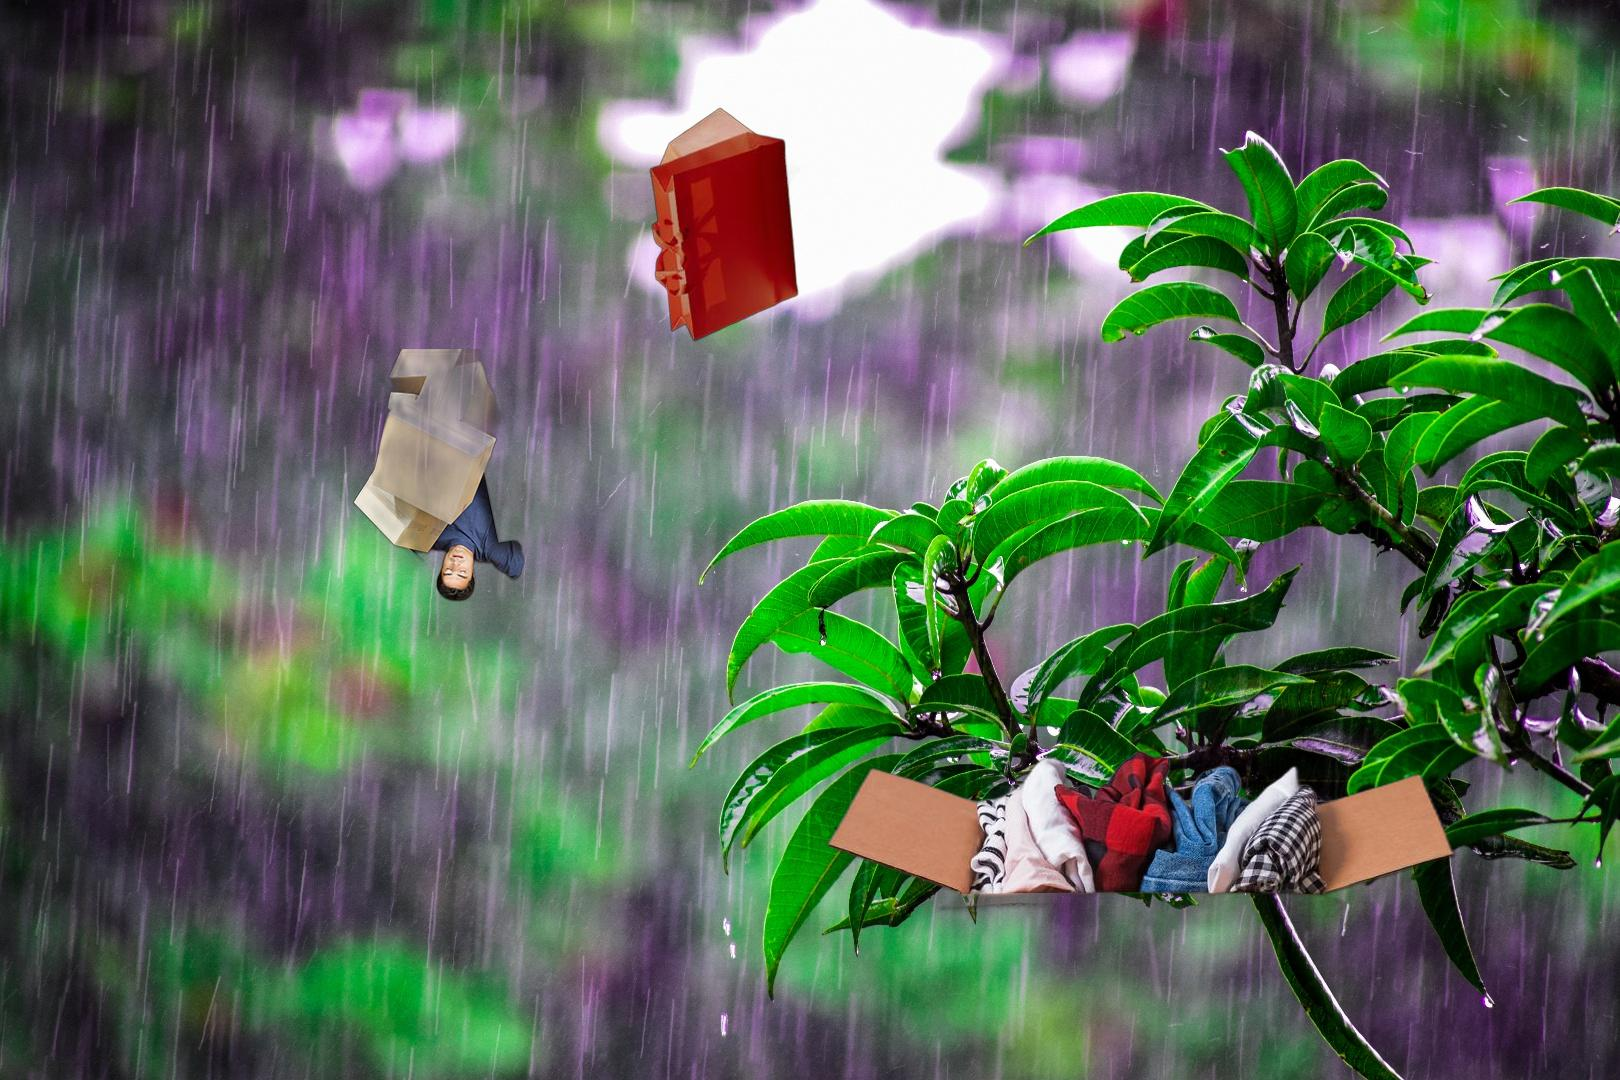paper-bag: (648, 105, 802, 344)
trashbox-cardboard: (818, 746, 1462, 1080), (323, 350, 589, 628)
